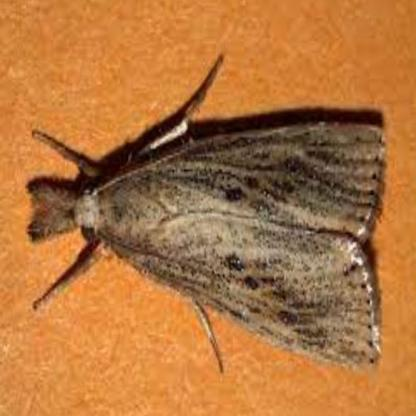stem-borer: (24, 49, 391, 377)
